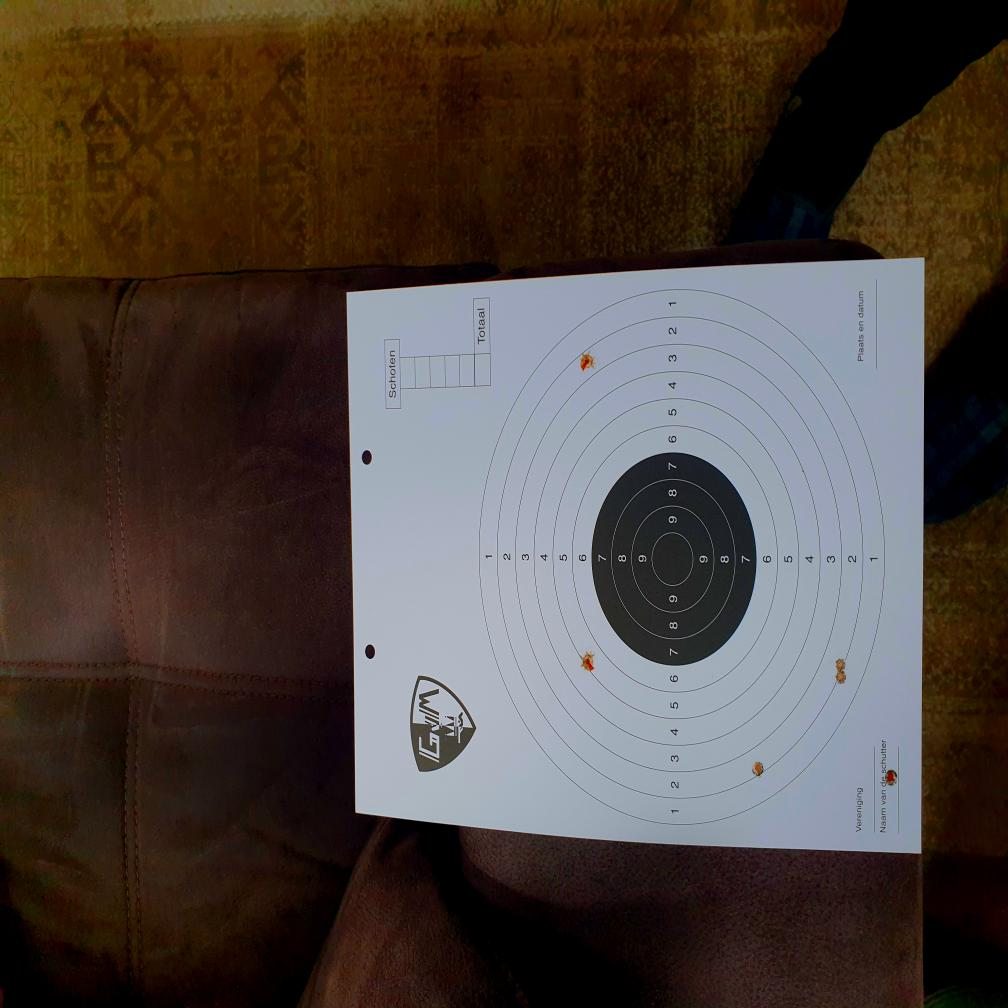0: (884, 769, 898, 786)
2: (833, 657, 846, 671), (752, 761, 763, 777), (833, 672, 847, 684)
3: (579, 350, 594, 371)
5: (580, 652, 594, 672)
Target: (478, 286, 886, 827)
black_contour: (591, 452, 756, 664)
